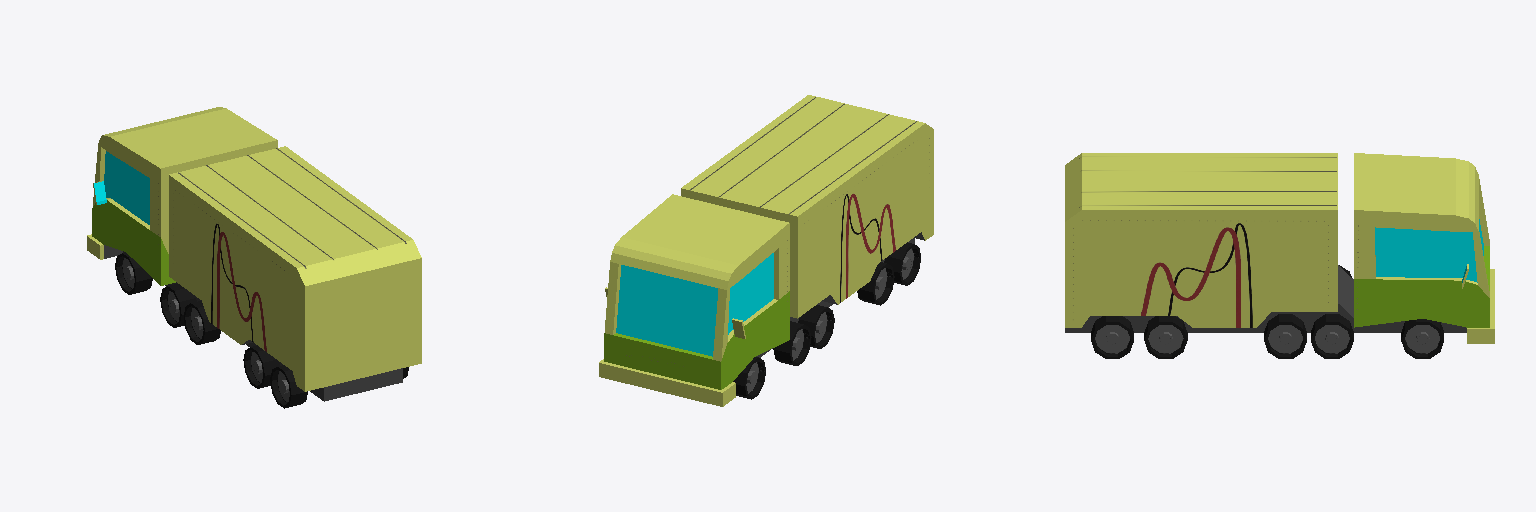
3 renders of one model, left to right at view 1: azimuth 30°, elevation 25°; view 2: azimuth 150°, elevation 25°; view 3: azimuth 270°, elevation 25°, orthographic.
Parts seen in each view (by area): view 1: Cube; view 2: Cube; view 3: Cube.
Boxes of the visible parts, <box> form: Cube: <box>87,107,421,408</box>; Cube: <box>599,95,933,406</box>; Cube: <box>1065,153,1494,358</box>.
Size of the model in its own units: 5.56 by 5.78 by 15.09.
Materials: 1 (1 with a texture image).